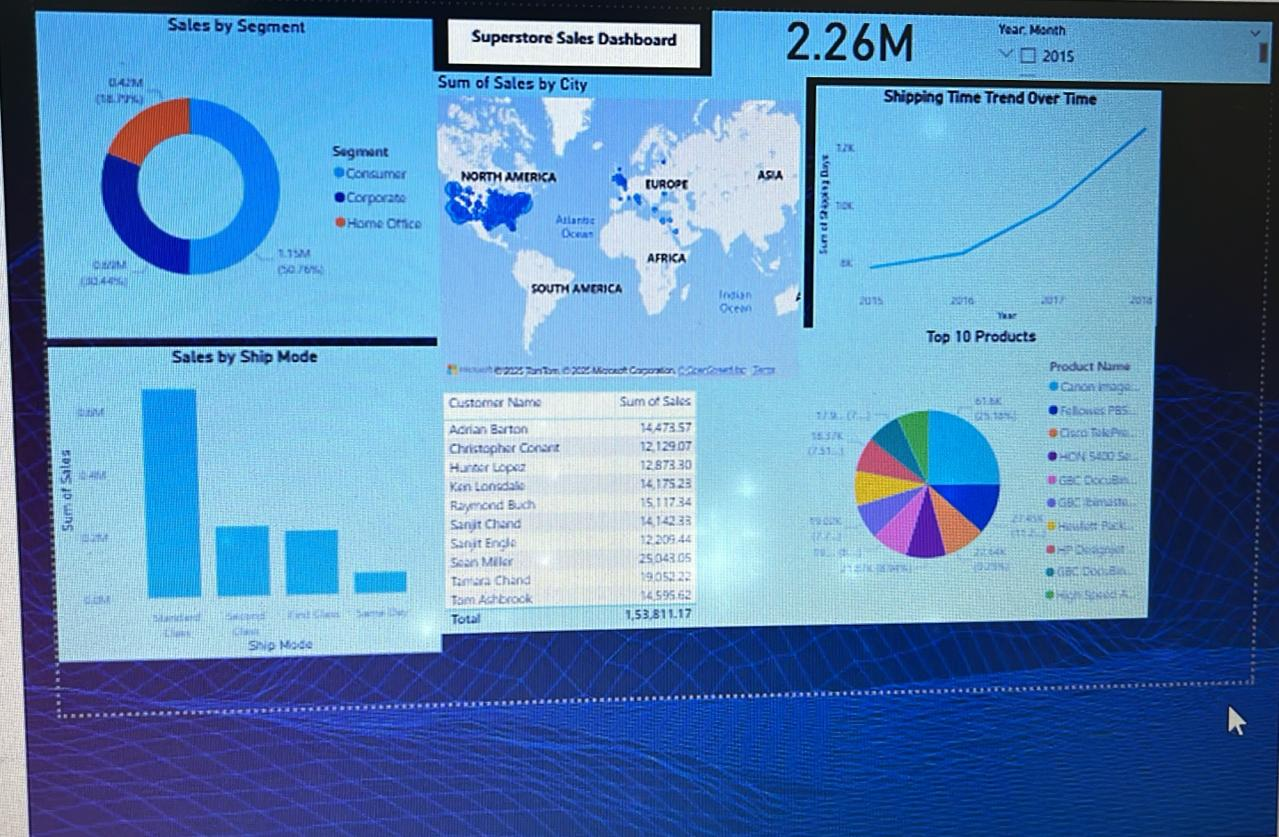

What the dashboard file says about the page in this screenshot:
{"tool":"powerbi","page":{"name":"Page 1","canvas":[1280,720],"ordinal":0},"visuals":[{"type":"donutChart","title":" Sales by Segment","fields":{"Y":["Sum(Sales Data.Sales)"],"Series":["Sales Data.Segment"]},"box":[0,13.5,386.5,321.2],"z":0},{"type":"map","fields":{"Size":["Sum(Sales Data.Sales)"],"Category":["Sales Data.City"]},"box":[386.3,66.3,386.3,321.9],"z":1000},{"type":"clusteredColumnChart","title":"Sales by Ship Mode","fields":{"Category":["Sales Data.Ship Mode"],"Y":["Sum(Sales Data.Sales)"]},"box":[0,344,387,321],"z":2000},{"type":"textbox","box":[401.4,13.3,257.5,43.6],"z":3000},{"type":"pieChart","title":"Top 10 Products","fields":{"Category":["Sales Data.Product Name"],"Y":["Sum(Sales Data.Sales)"]},"box":[772.5,325.7,386.3,320],"z":4000},{"type":"card","fields":{"Values":["Sum(Sales Data.Sales)"]},"box":[672.2,0,291.6,66.3],"z":5000},{"type":"lineChart","title":"Shipping Time Trend Over Time","fields":{"Category":["Sales Data.Order Date.Variation.Date Hierarchy.Year","Sales Data.Order Date.Variation.Date Hierarchy.Month"],"Y":["Sum(Sales Data.Shipping Days)"]},"box":[782,73.8,376.8,251.8],"z":6000},{"type":"slicer","fields":{"Values":["Sales Data.Ship Date.Variation.Date Hierarchy.Year","Sales Data.Ship Date.Variation.Date Hierarchy.Month"]},"box":[963.8,0,316.2,66.3],"z":7000},{"type":"tableEx","fields":{"Values":["Sales Data.Customer Name","Sum(Sales Data.Sales)"]},"box":[386.3,388.2,386.3,257.5],"z":8000}]}

Visuals, with their boxes on the page's 1280x720 design canvas (x1, y1, x2, y2). These are canvas units, not pixel positions in the 1279x837 screenshot, which may show the page scaled, cropped or inside an application window:
" Sales by Segment" donutChart: 0,14,386,335
map - Sum(Sales Data.Sales) x Sales Data.City: 386,66,773,388
"Sales by Ship Mode" clusteredColumnChart: 0,344,387,665
textbox: 401,13,659,57
"Top 10 Products" pieChart: 772,326,1159,646
card - Sum(Sales Data.Sales): 672,0,964,66
"Shipping Time Trend Over Time" lineChart: 782,74,1159,326
slicer - Sales Data.Ship Date.Variation.Date Hierarchy.Year x Sales Data.Ship Date.Variation.Date Hierarchy.Month: 964,0,1280,66
tableEx - Sales Data.Customer Name x Sum(Sales Data.Sales): 386,388,773,646
